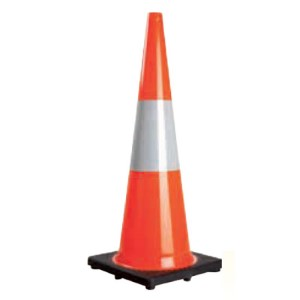traffic cone: (88, 12, 222, 287)
